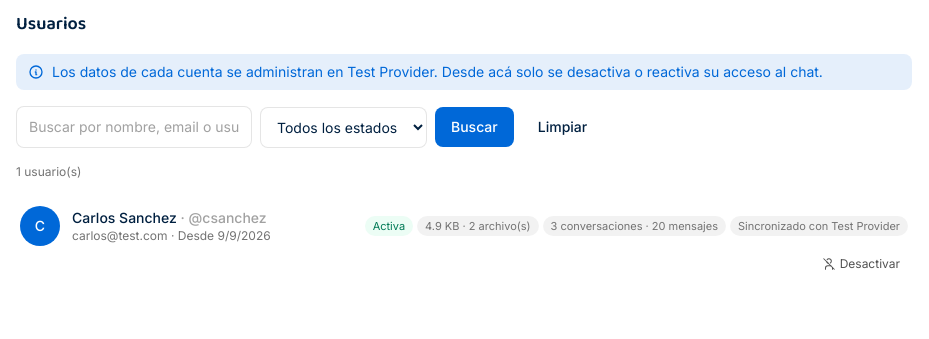
Scenario: AdminUsersPanel › con las cuentas administradas por un proveedor externo › shows the translated backend error when the action is rejected
The image size is (929, 339).
Click the button "Desactivar" at (861, 264), box [814,252,908,276]
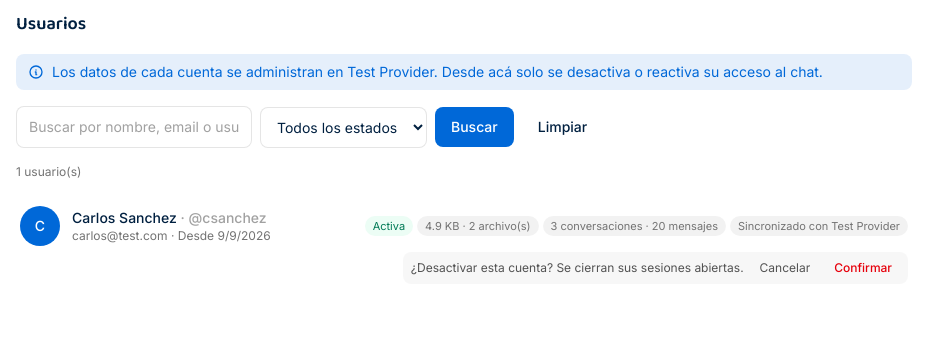
Click the button "Confirmar" at (863, 268), box [826,256,900,280]
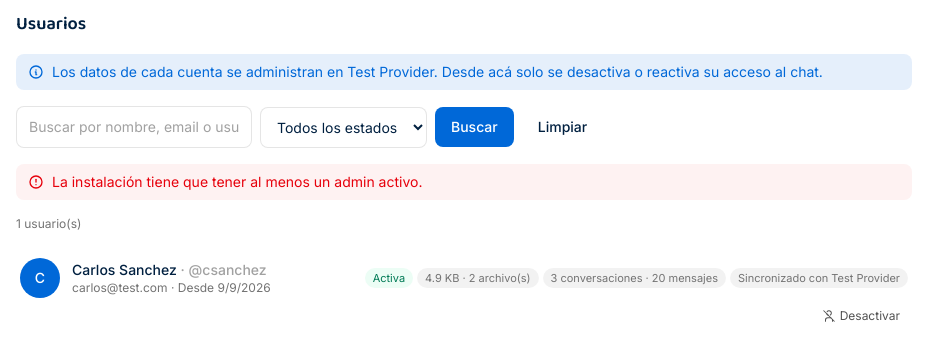
Result: the message shows "al menos un admin activo" at [52,173,422,190]
